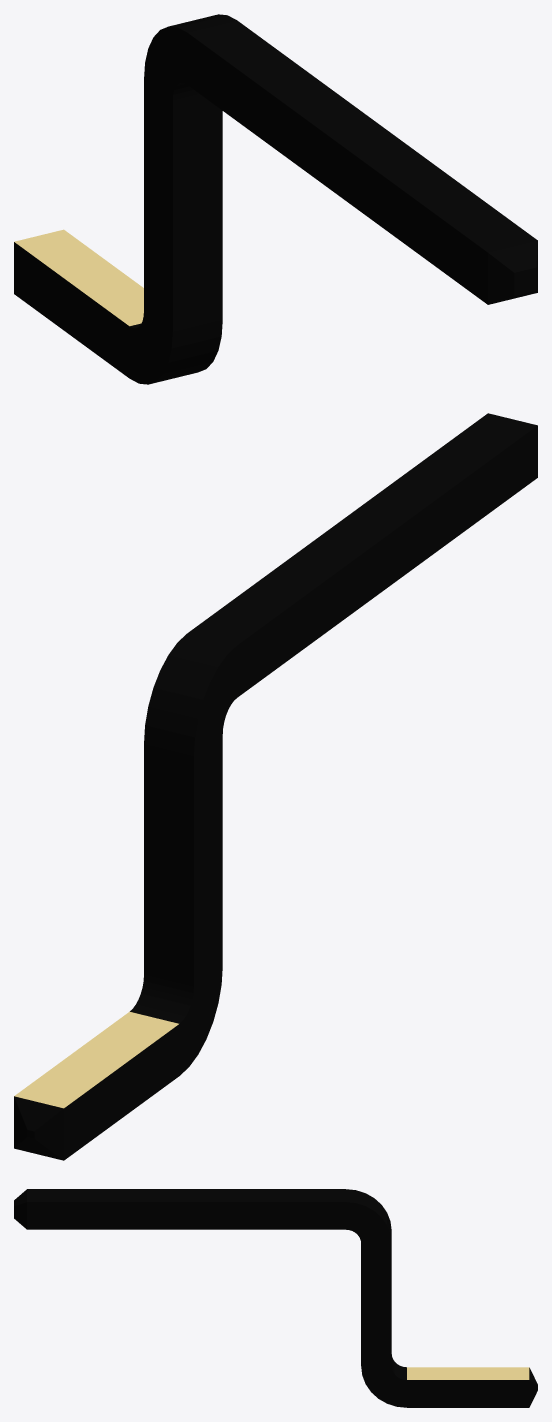
3 renders of one model, top to bottom at view 1: azimuth 30°, elevation 25°; view 2: azimuth 150°, elevation 25°; view 3: azimuth 270°, elevation 25°, orthographic. The views are drawn at different scales.
Visible parts, largest first — view 1: DF13A-4P-1.25H; view 2: DF13A-4P-1.25H; view 3: DF13A-4P-1.25H.
Part boxes in pixels (bbox=[...]): DF13A-4P-1.25H: bbox=[14, 14, 537, 384]; DF13A-4P-1.25H: bbox=[14, 413, 537, 1160]; DF13A-4P-1.25H: bbox=[14, 1189, 537, 1407].
Size of the model in its own units: 0.00116 by 0.00862 by 0.0199.
